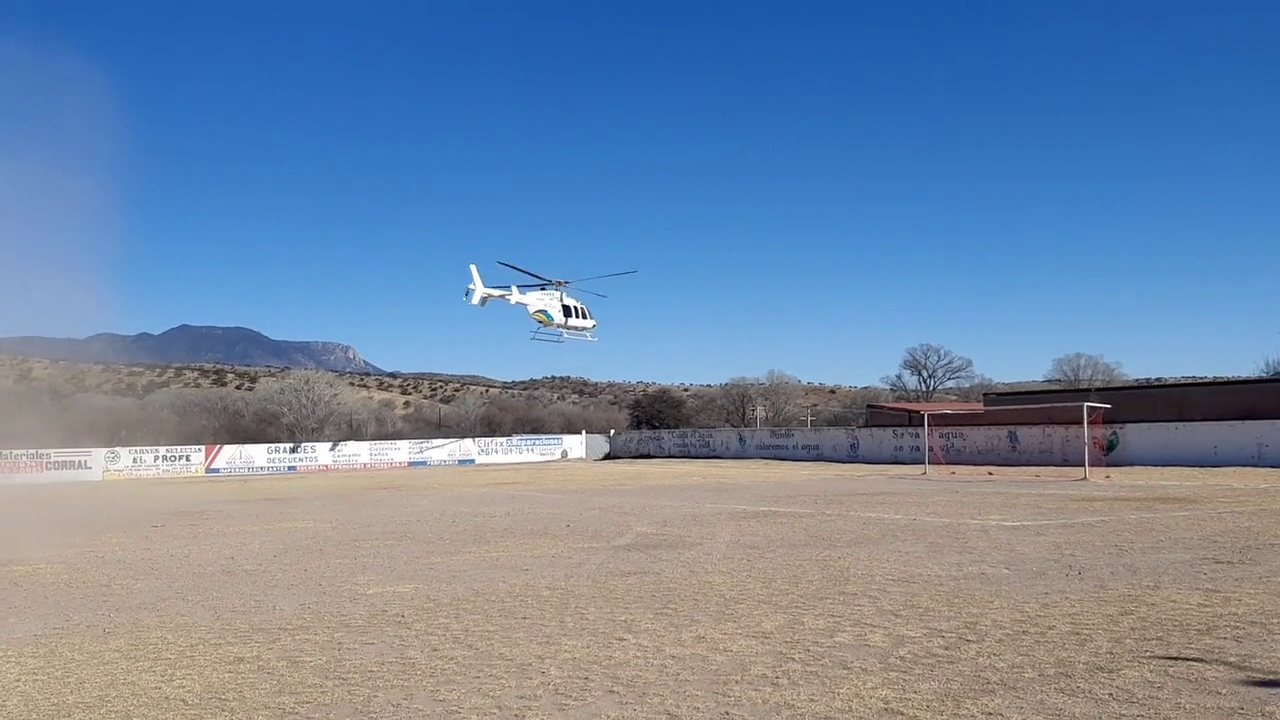heli: (464, 258, 636, 344)
